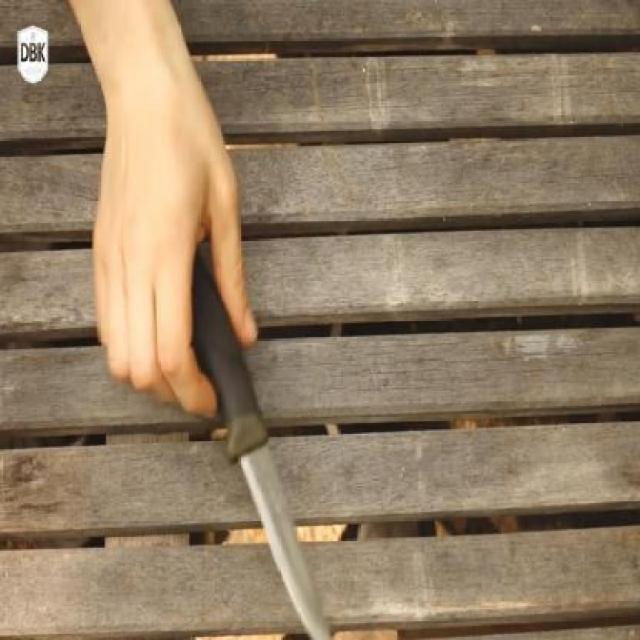-: (146, 244, 341, 640)
